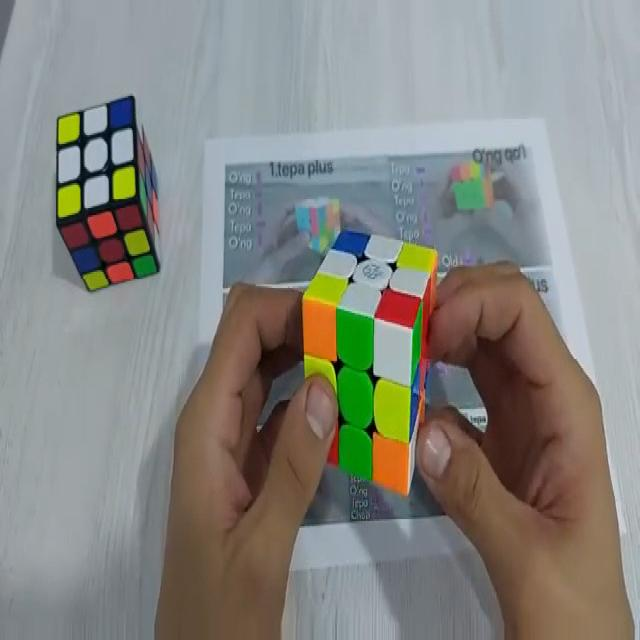Rub: (301, 226, 440, 495), (55, 92, 160, 294)
